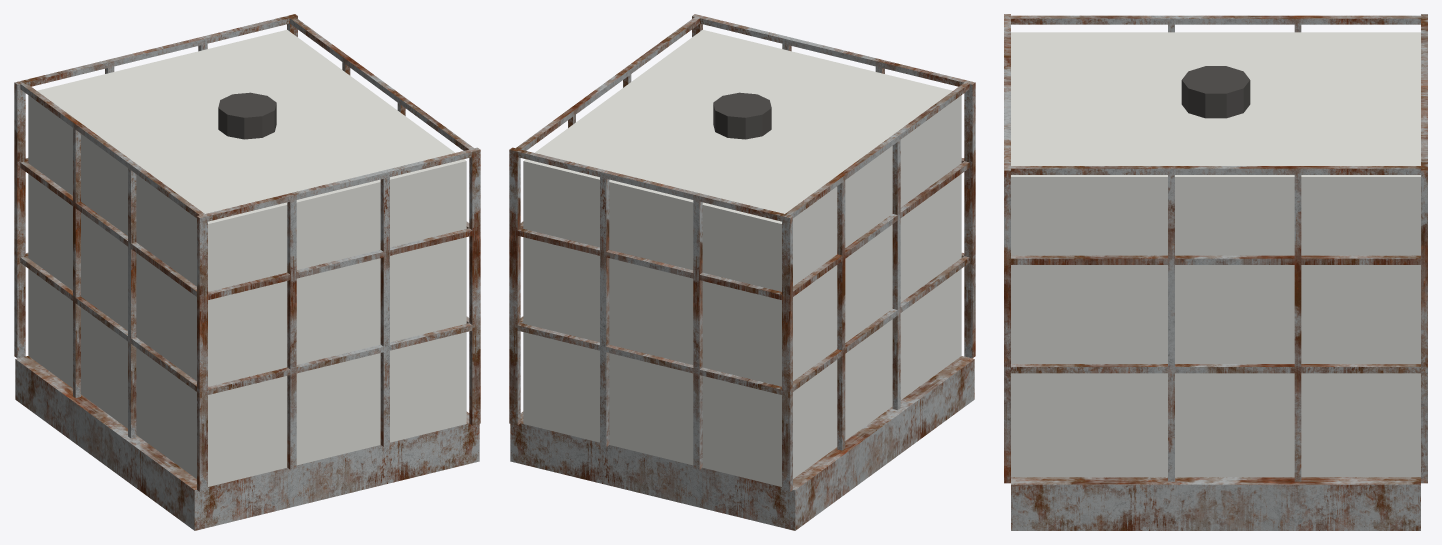
Rendered from tanque_ibc.glb.
3 renders of one model, left to right at view 1: azimuth 30°, elevation 25°; view 2: azimuth 150°, elevation 25°; view 3: azimuth 270°, elevation 25°, orthographic. The views are drawn at different scales.
Visible parts, largest first — view 1: ferro_escuro; view 2: ferro_escuro; view 3: ferro_escuro.
Part boxes in pixels (x1,y1,x2,y2): ferro_escuro: (14, 14, 480, 530); ferro_escuro: (509, 14, 975, 530); ferro_escuro: (1004, 14, 1427, 530).
Size of the model in its own units: 1.1 by 1.2 by 1.24.
3 materials, 1 textured.
